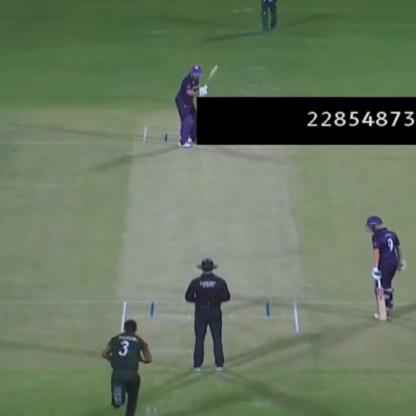pitch: (112, 114, 308, 348)
